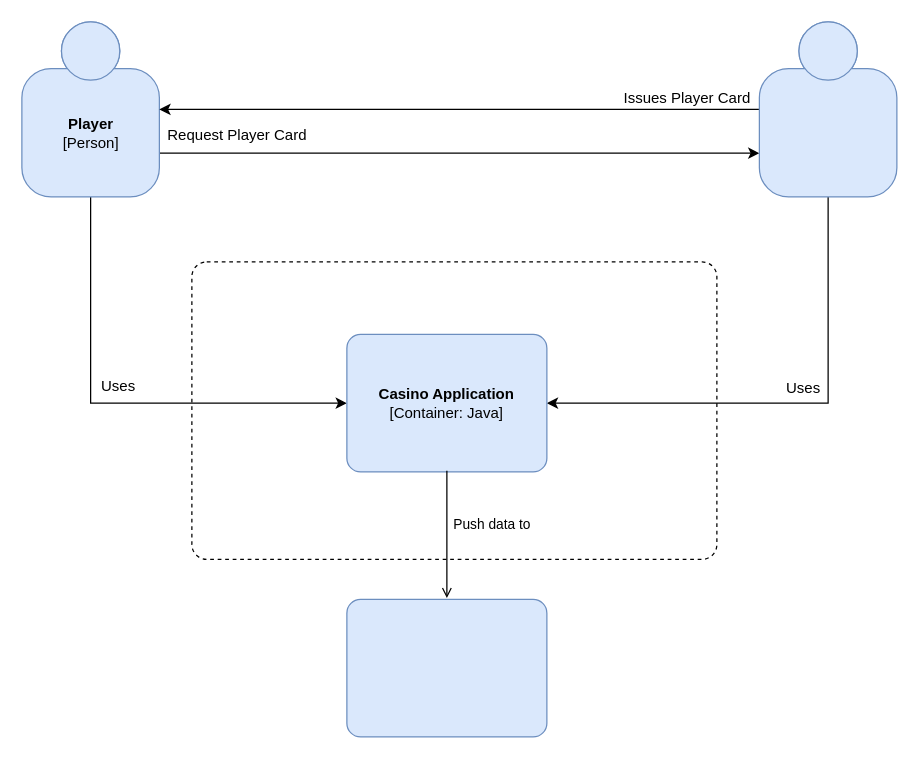
The diagram is 919 pixels wide and 759 high, and some of its shapes have lost their labels. Each missing label, with the centre of its shape:
"Betting Authority System [Software System]" belongs at pixel 446 667.
"Cashier [Person]" belongs at pixel 827 109.
